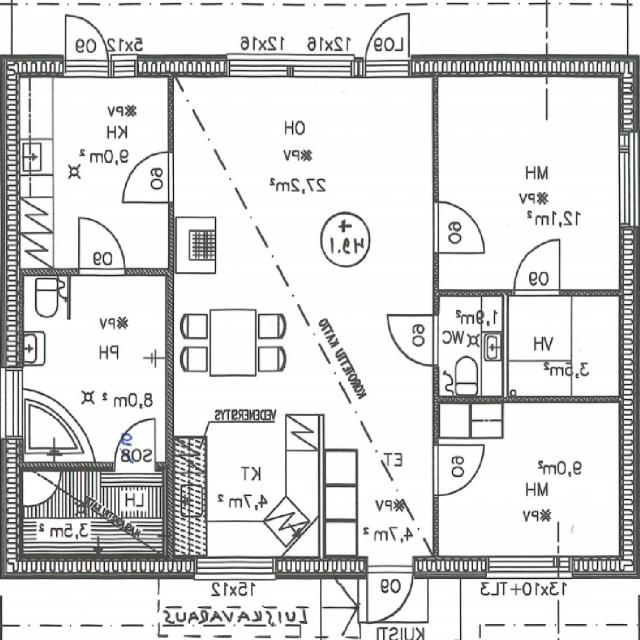door: (367, 556, 414, 628), (66, 7, 109, 78), (366, 8, 409, 78), (432, 201, 486, 252), (79, 218, 125, 276), (123, 152, 176, 202), (387, 315, 438, 366), (432, 445, 483, 495), (515, 239, 559, 296), (114, 417, 156, 471)
